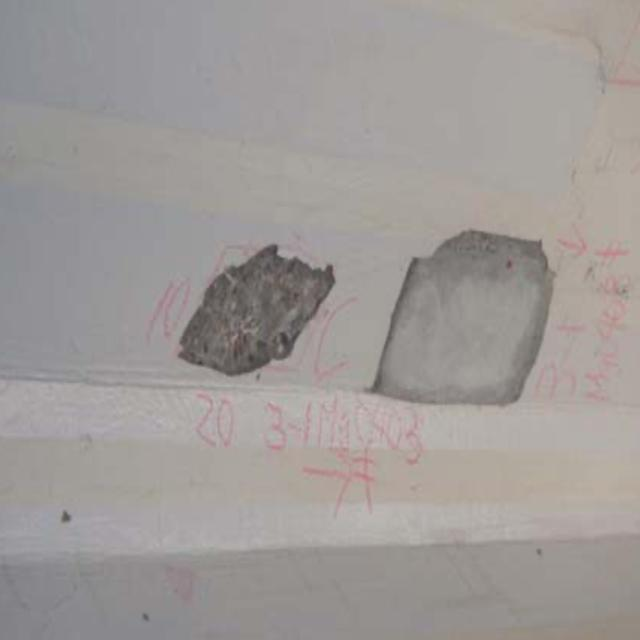spalling: (377, 215, 553, 412), (177, 225, 327, 382)
